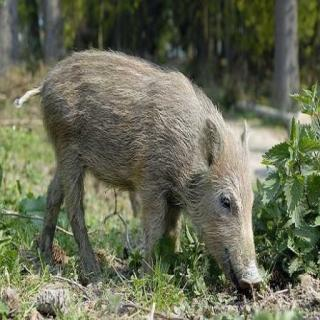Pig: (15, 39, 275, 317)
